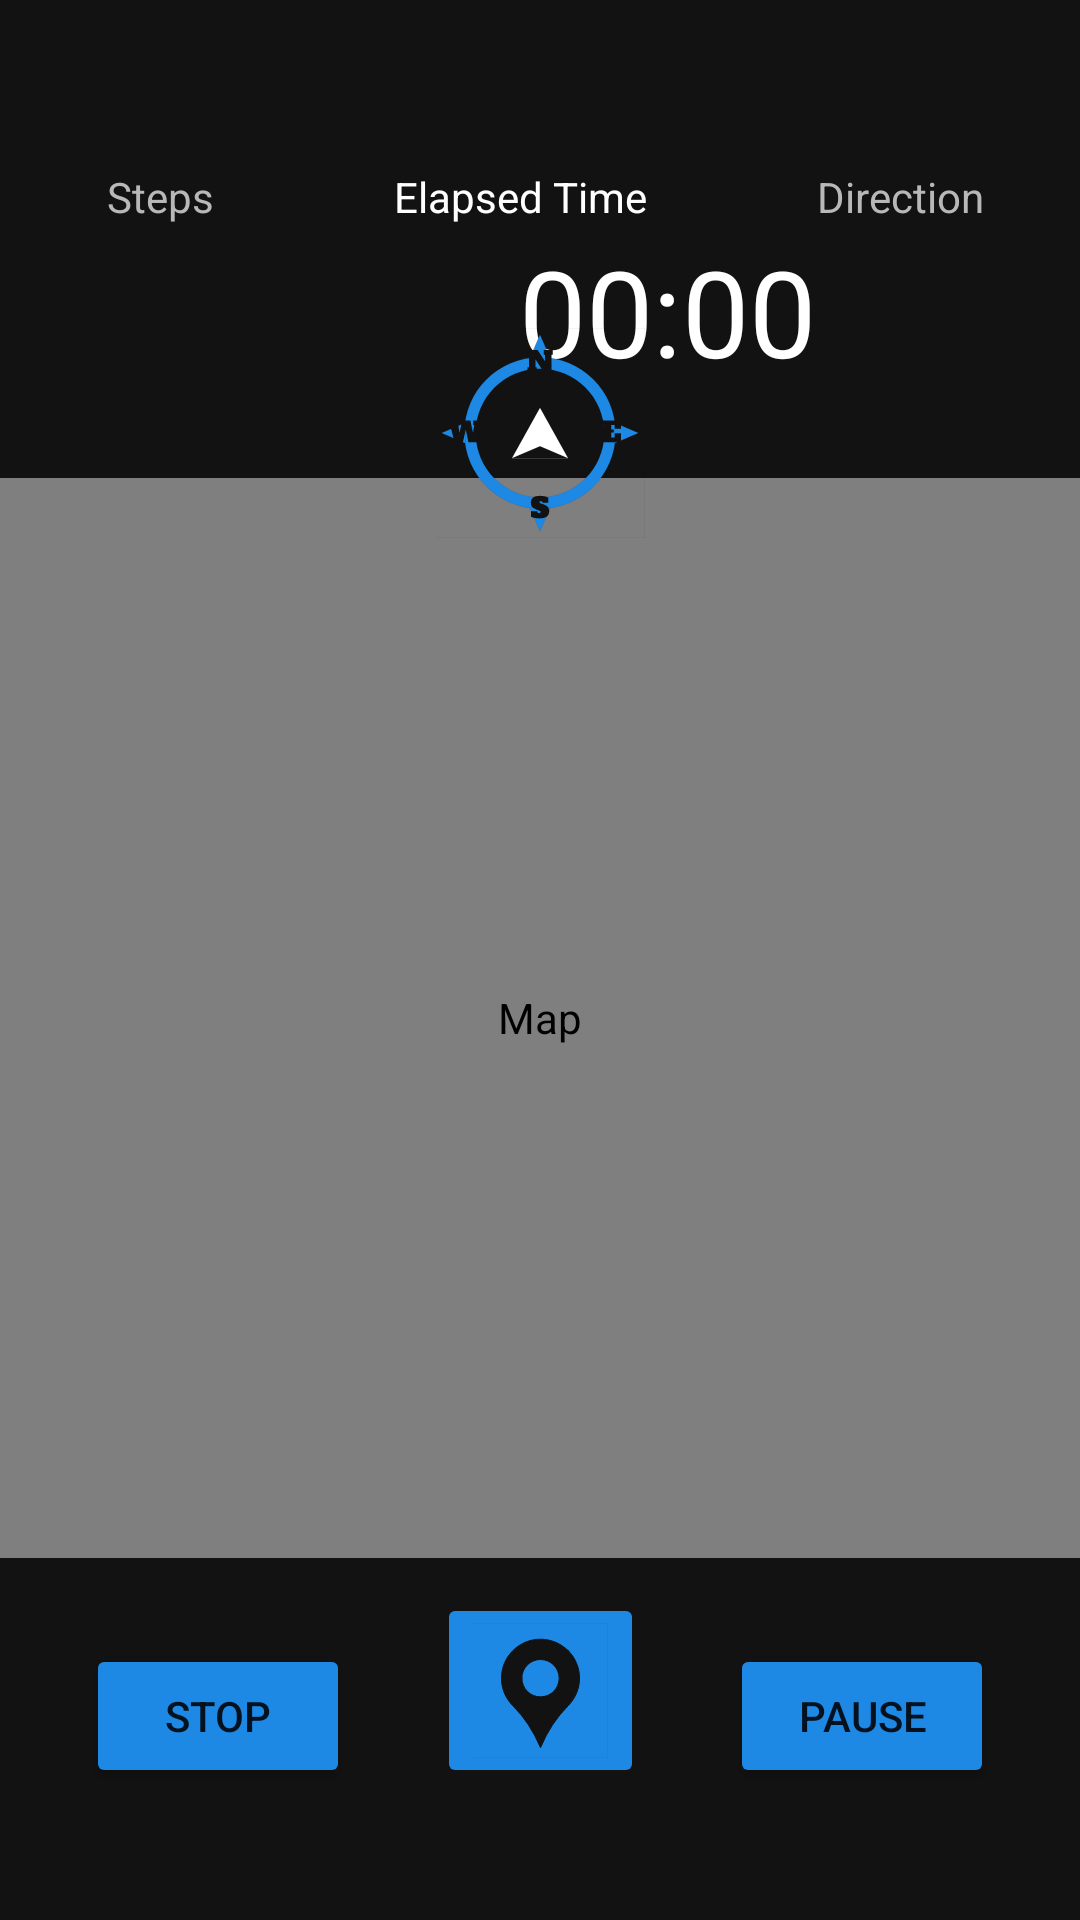

Icons on this 1080 × 1920 Android screen, each with the point to tap as (x,y):
add a location: (540,1690)
